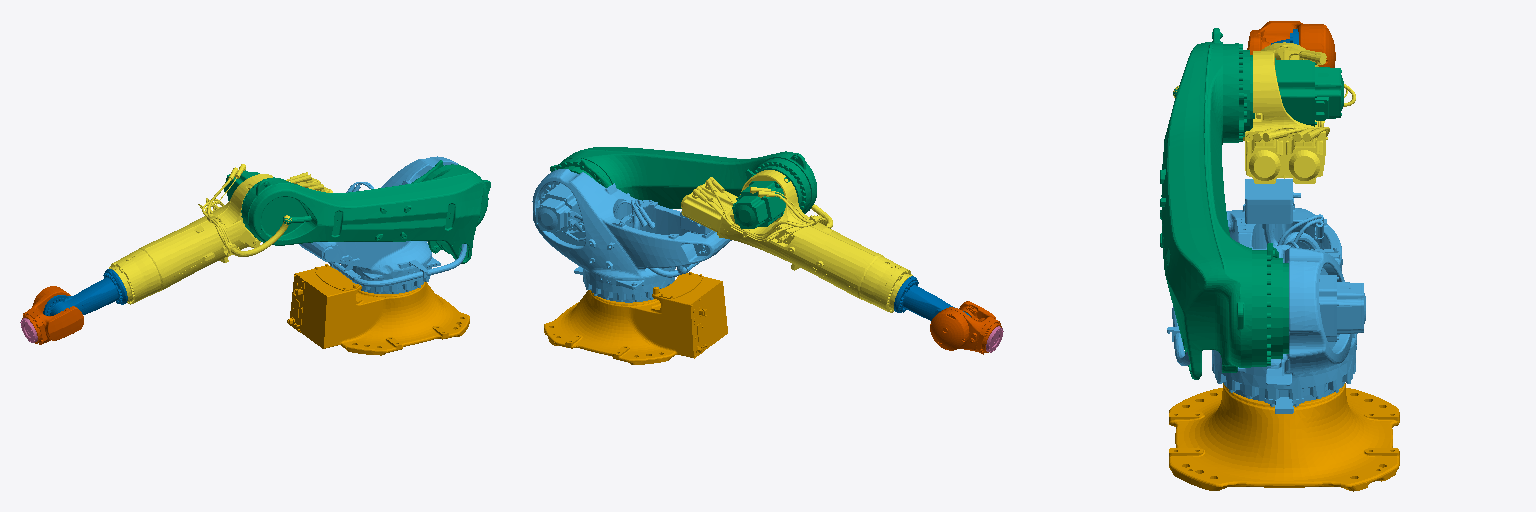
URDF robot description (KUKA KR210 R2700-2):
<?xml version="1.0" ?>
<robot name="KUKA KR210 R2700-2">
    <!-- Properties -->
    <material name="kuka_gray">
        <color rgba="0.4 0.4 0.4 1" />
    </material>
    <material name="kuka_organge">
        <color rgba="0.96 0.65 0.14 1" />
    </material>
    <!-- link list -->
    <link name="base_link">
        <visual>
            <geometry>
                <mesh filename="visual/base_link.stl" material_name="kuka_gray"/>
            </geometry>
        </visual>
    </link>
    <link name="link1">
        <visual>
            <geometry>
                <mesh filename="visual/link_1.stl" material_name="kuka_organge"/>
            </geometry>
        </visual>
    </link>
    <link name="link2">
        <visual>
            <geometry>
                <mesh filename="visual/link_2.stl" material_name="kuka_organge"/>
            </geometry>
        </visual>
    </link>
    <link name="link3">
        <visual>
            <geometry>
                <mesh filename="visual/link_3.stl" material_name="kuka_organge"/>
            </geometry>
        </visual>
    </link>
    <link name="link4">
        <visual>
            <geometry>
                <mesh filename="visual/link_4.stl" material_name="kuka_organge"/>
            </geometry>
        </visual>
    </link>
    <link name="link5">
        <visual>
            <geometry>
                <mesh filename="visual/link_5.stl" material_name="kuka_organge"/>
            </geometry>
        </visual>
    </link>
    <link name="link6">
        <visual>
            <geometry>
                <mesh filename="visual/link_6.stl" material_name="kuka_organge"/>
            </geometry>
        </visual>
    </link>
    <link name="ee_link"/>
    <!-- end of link list -->
    <!-- joint list -->
    <joint name="joint1" type="revolute">
        <parent link="base_link"/>
        <child link="link1"/>
        <origin xyz="0 0 0.645" rpy="0 0 0" />
        <axis xyz="0 0 -1" />
        <limit lower="-185" upper="185" velocity="120"/>
    </joint>
    <joint name="joint2" type="revolute">
        <parent link="link1"/>
        <child link="link2"/>
        <origin xyz="0.33 0 0" rpy="0 90 0" />
        <axis xyz="0 1 0" />
        <limit lower="-140" upper="-5" velocity="115"/>
    </joint>
    <joint name="joint3" type="revolute">
        <parent link="link2"/>
        <child link="link3"/>
        <origin xyz="0 0 1.15" rpy="0 -90 0" />
        <axis xyz="0 1 0" />
        <limit lower="-120" upper="168" velocity="112"/>
    </joint>
    <joint name="joint4" type="revolute">
        <parent link="link3"/>
        <child link="link4"/>
        <origin xyz="1.22 0 0.115" rpy="0 0 0" />
        <axis xyz="-1 0 0" />
        <limit lower="-350" upper="350" velocity="179"/>
    </joint>
    <joint name="joint5" type="revolute">
        <parent link="link4"/>
        <child link="link5"/>
        <origin xyz="0 0 0" rpy="0 0 0" />
        <axis xyz="0 1 0" />
        <limit lower="-125" upper="150" velocity="172"/>
    </joint>
    <joint name="joint6" type="revolute">
        <parent link="link5"/>
        <child link="link6"/>
        <origin xyz="0 0 0" rpy="0 0 0" />
        <axis xyz="-1 0 0" />
        <limit lower="-350" upper="350" velocity="220"/>
    </joint>
    <joint name="joint_6_t-tool0" type="fixed">
        <origin xyz="0.215 0 0" rpy="0 90 0"/>
        <parent link="link6"/>
        <child link="ee_link"/>
    </joint>
    <!-- end of joint list -->
    <tcp xyz="0 0 0" rpy="0 0 0"/>

    <!-- home positions  -->
    <home_positions joints="0 -90 90 0 90 0" />

    <!-- Ortho-parallel Basis and a Spherical Wrist -->
    <opw_parameters>
        <c1>0.645</c1>
        <c2>1.15</c2>
        <c3>1.22</c3>
        <c4>0.215</c4>
        <a1>0.33</a1>
        <a2>-0.115</a2>
        <b>0</b>
        <joint1 sign_correction="-1" offset="0"/>
        <joint2 sign_correction="1" offset="-90"/>
        <joint3 sign_correction="1" offset="0"/>
        <joint4 sign_correction="-1" offset="0"/>
        <joint5 sign_correction="1" offset="0"/>
        <joint6 sign_correction="-1" offset="0"/>
    </opw_parameters>
</robot>

--- Render facts (derived) ---
The picture shows the robot from 3 angles, left to right: view 1: azimuth 30°, elevation 25°; view 2: azimuth 150°, elevation 25°; view 3: azimuth 270°, elevation 25°; orthographic projection.
Model KUKA KR210 R2700-2 with 8 links and 7 joints (6 revolute, 1 fixed), rooted at base_link, posed all joints at 0 but 1 set to mid-range because 0 is outside their limits (joint2 = -72.5).
Links seen in each view (by area): view 1: link2, base_link, link3, link1, link5, link4; view 2: link1, link3, base_link, link2, link5, link4; view 3: link2, base_link, link1, link3, link5.
Boxes of the visible links, bbox=[...] form: link2: bbox=[224, 160, 490, 263]; base_link: bbox=[287, 264, 469, 355]; link3: bbox=[109, 164, 332, 304]; link1: bbox=[299, 156, 466, 293]; link5: bbox=[22, 286, 83, 344]; link4: bbox=[43, 269, 127, 315]; link1: bbox=[532, 169, 731, 302]; link3: bbox=[681, 170, 912, 312]; base_link: bbox=[544, 272, 727, 364]; link2: bbox=[550, 147, 816, 228]; link5: bbox=[930, 301, 1001, 354]; link4: bbox=[894, 276, 970, 320]; link2: bbox=[1160, 28, 1343, 379]; base_link: bbox=[1169, 383, 1399, 491]; link1: bbox=[1167, 179, 1365, 413]; link3: bbox=[1173, 42, 1355, 183]; link5: bbox=[1247, 21, 1335, 67].
Bounding box of the posed robot: 2.72 × 0.782 × 1.1 m (x, y, z).
7 mesh visuals loaded from 7 distinct referenced files (7 binary STL).